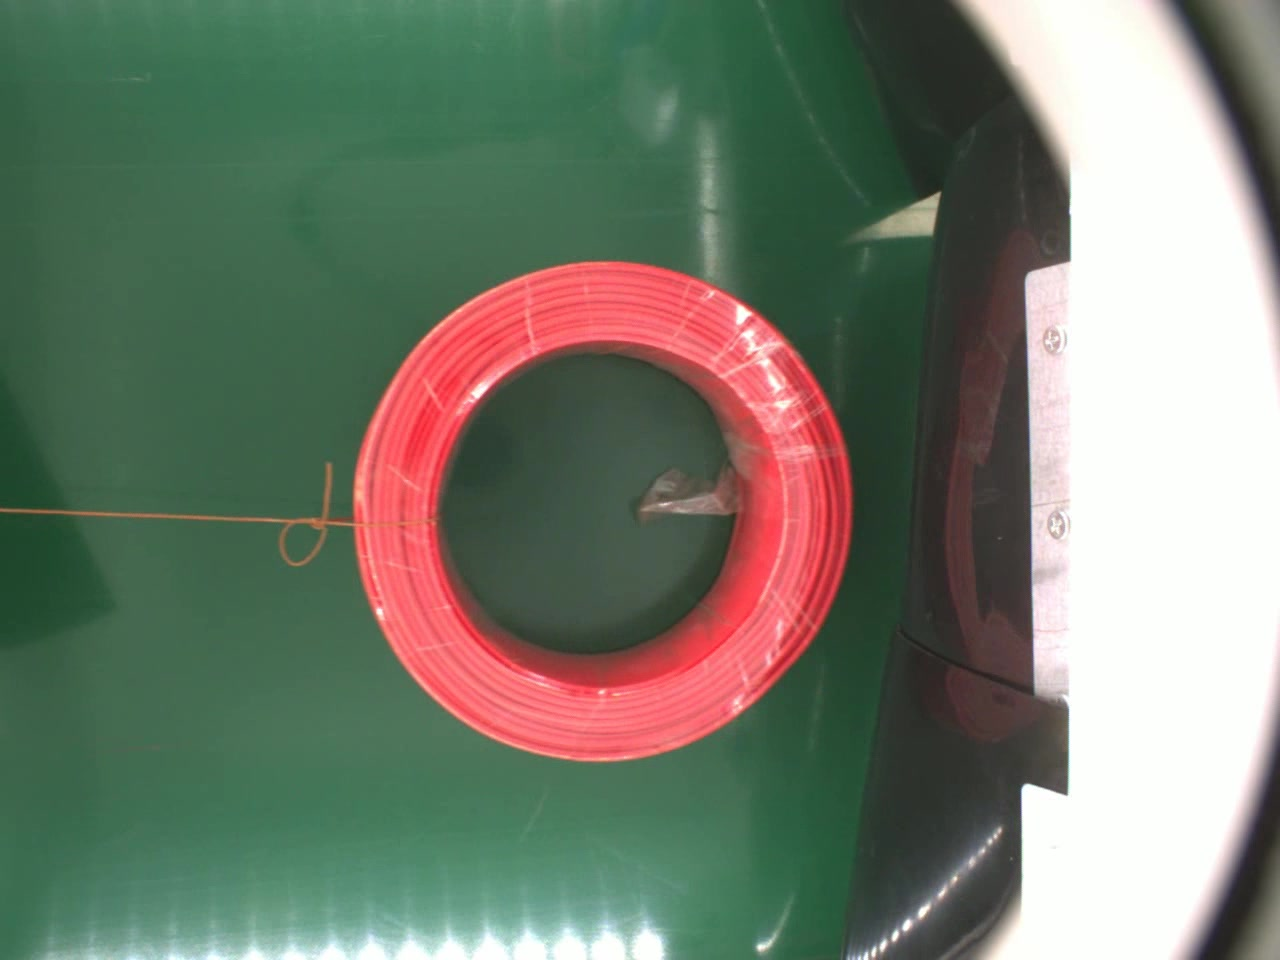red: (346, 253, 856, 769)
